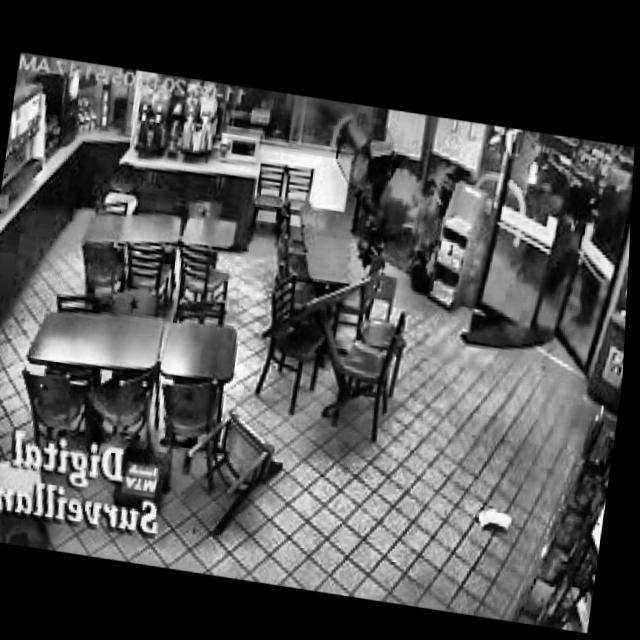burglary: (498, 132, 636, 328)
